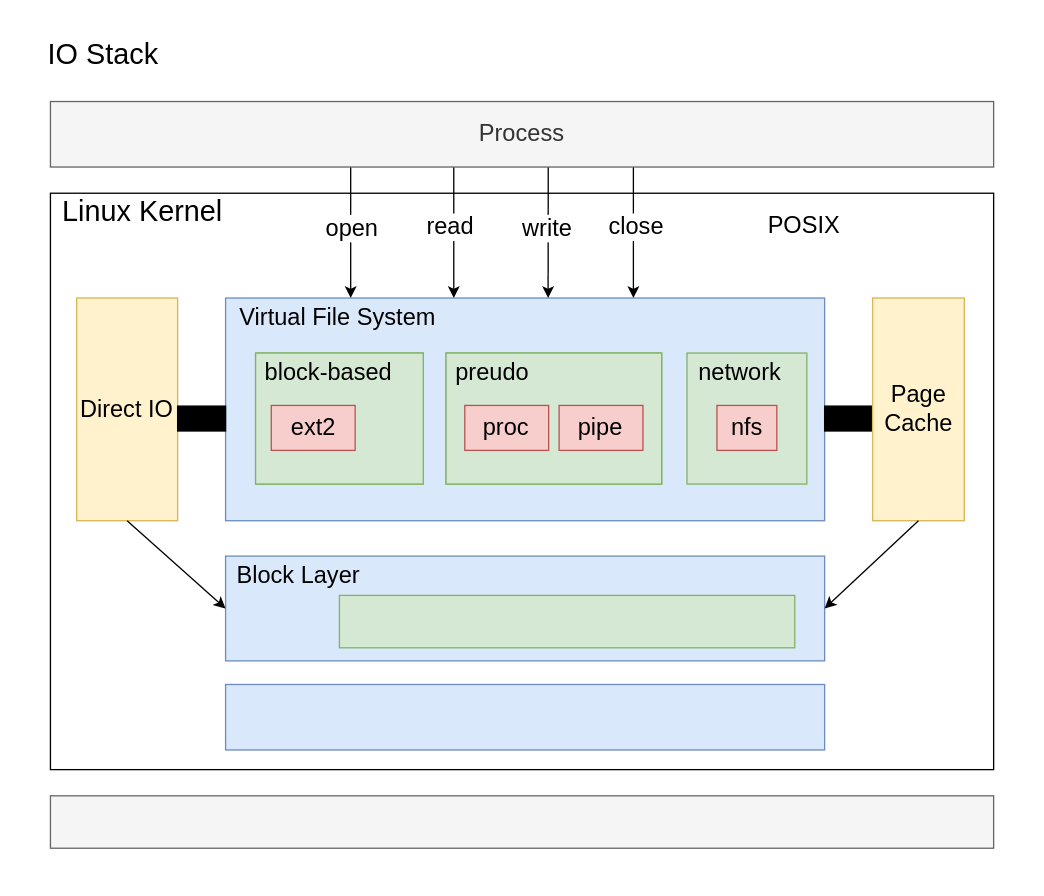
Image size: 1044x896. Some labels were removed from this diagram. Here are the shapes that lost their labels. From the top down, the box of each, then its label:
(338, 594, 795, 648): IO Scheduler
(224, 683, 825, 750): Device Driver
(49, 795, 994, 848): Hardware
